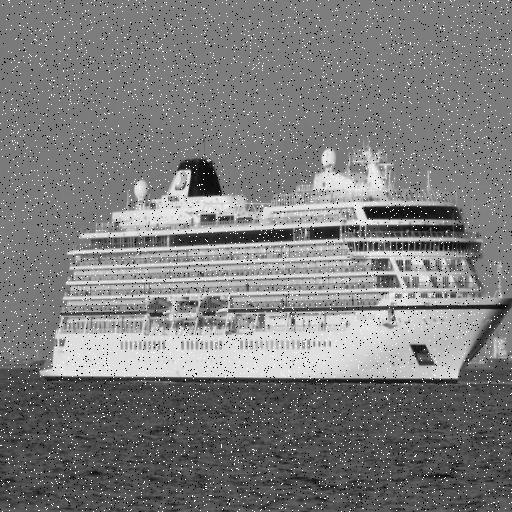cruises: (37, 135, 512, 391)
